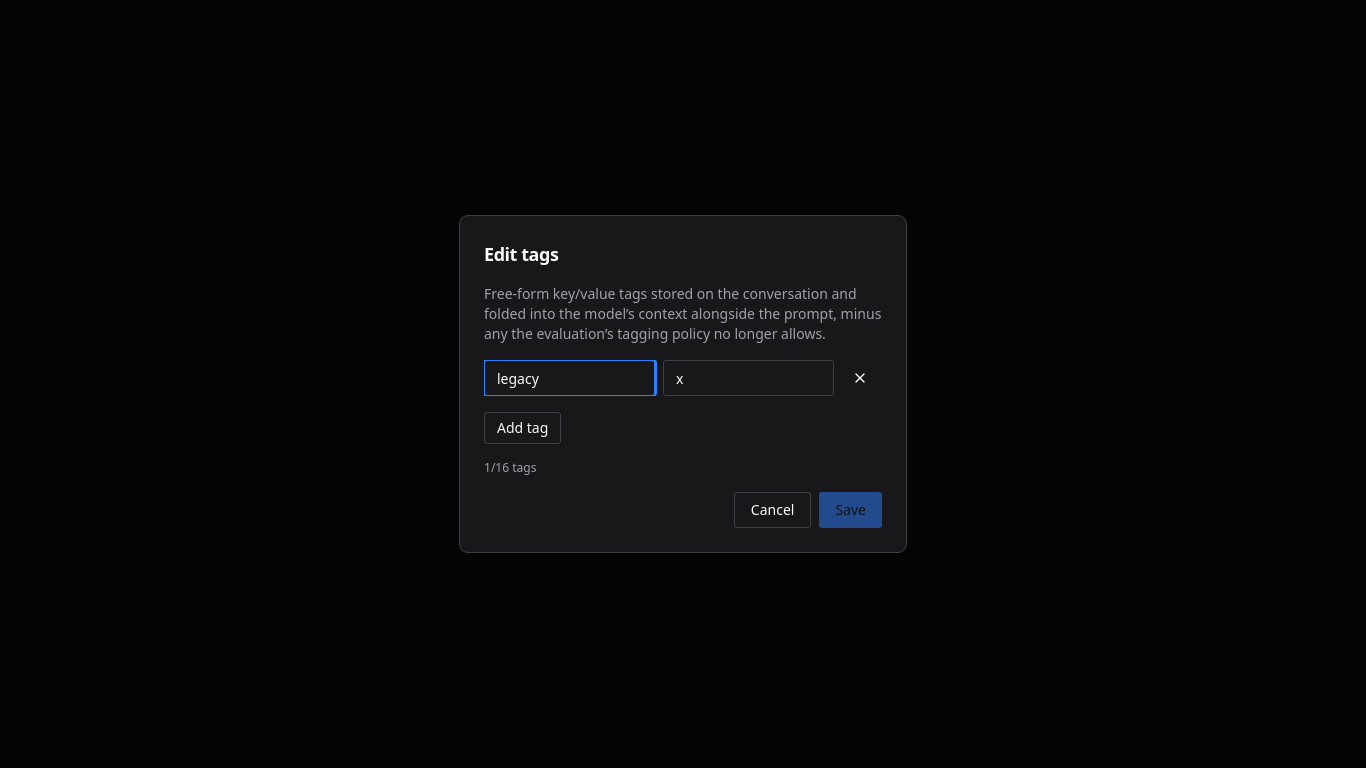
Test case: EditTagsDialog — what a failure says › clears a rejected-key message as soon as the row is edited
The width and height of the screenshot is (1366, 768).
Replace the text in the field named "Tag 1 value" with "y": (748, 378) 663,360 -> 834,396
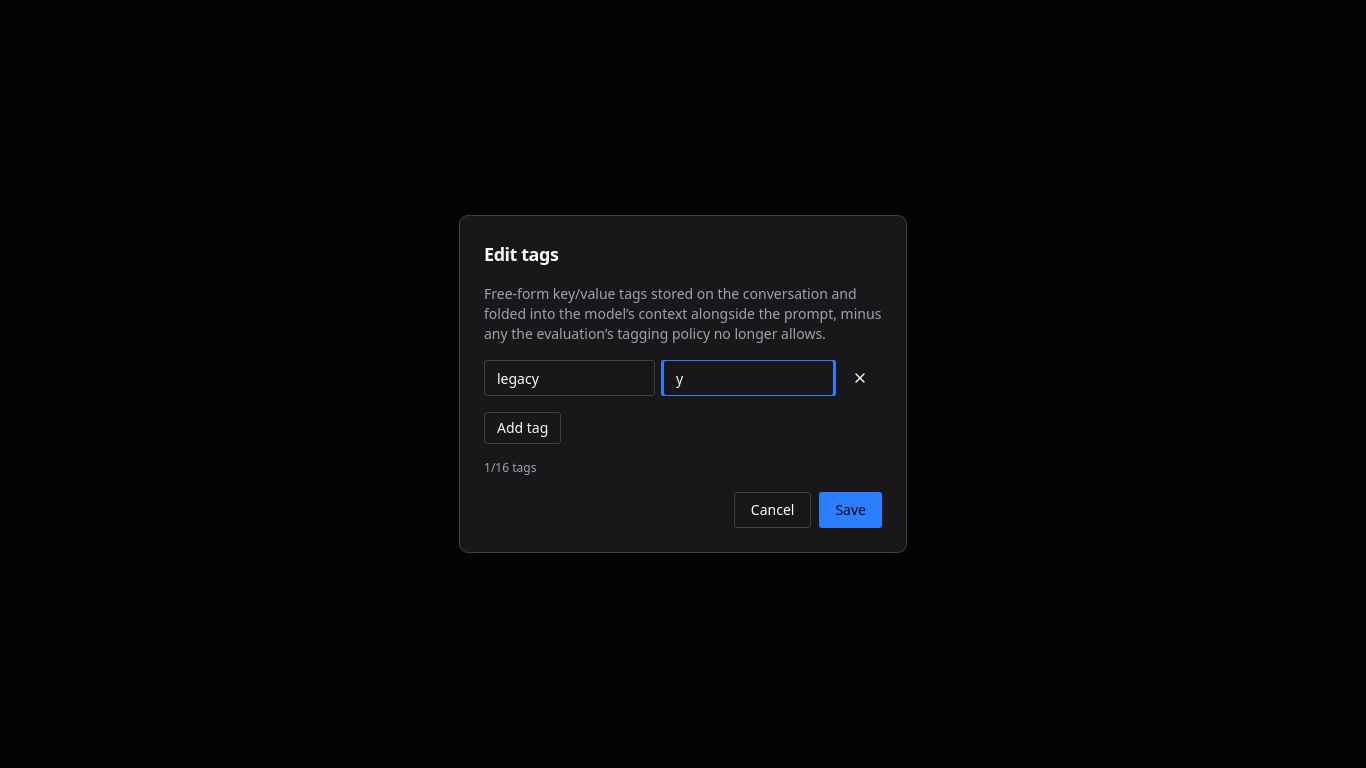
Click the button "Save": (851, 510) 819,492 -> 882,528
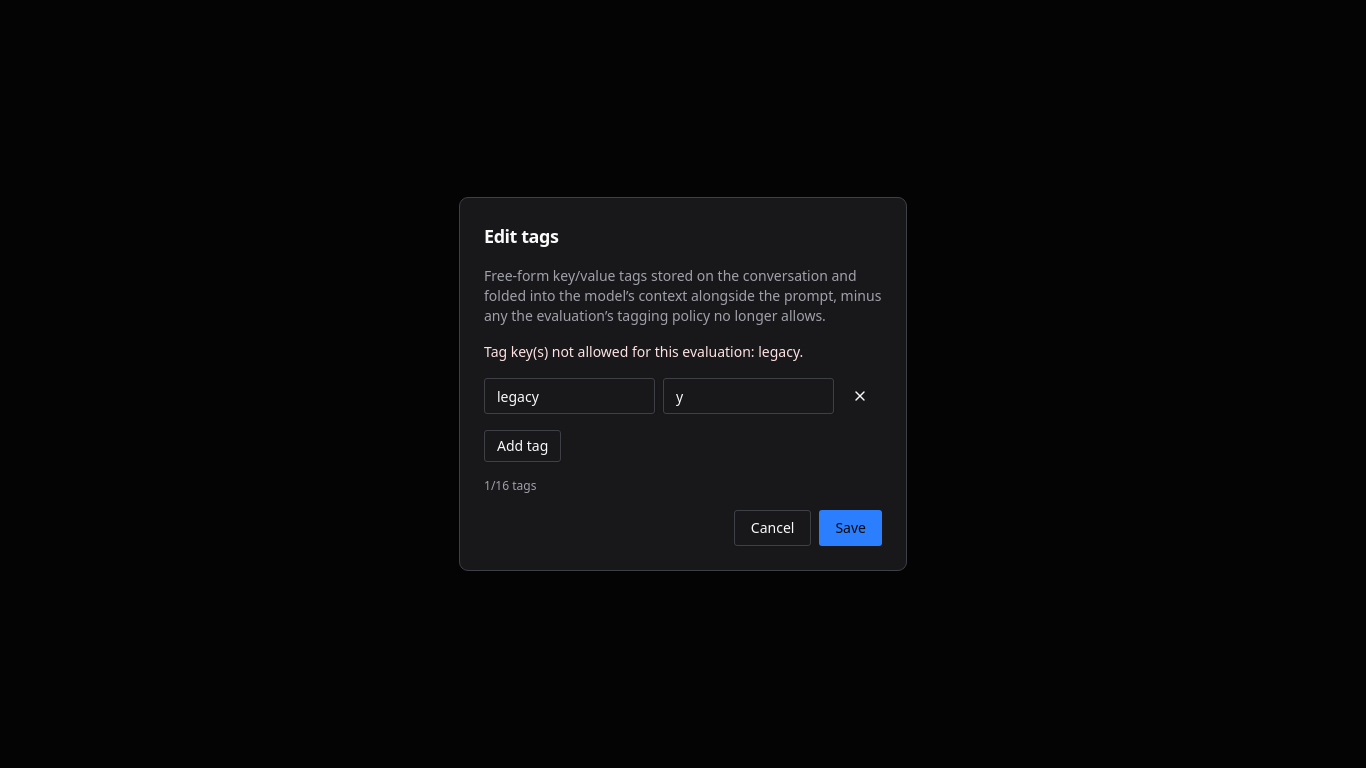
Check: the text "Tag key(s) not allowed for this evaluation: legacy." is shown, box 484,342 -> 803,361
In the field named "Tag 1 value": (748, 396) 663,378 -> 834,414, type "z"
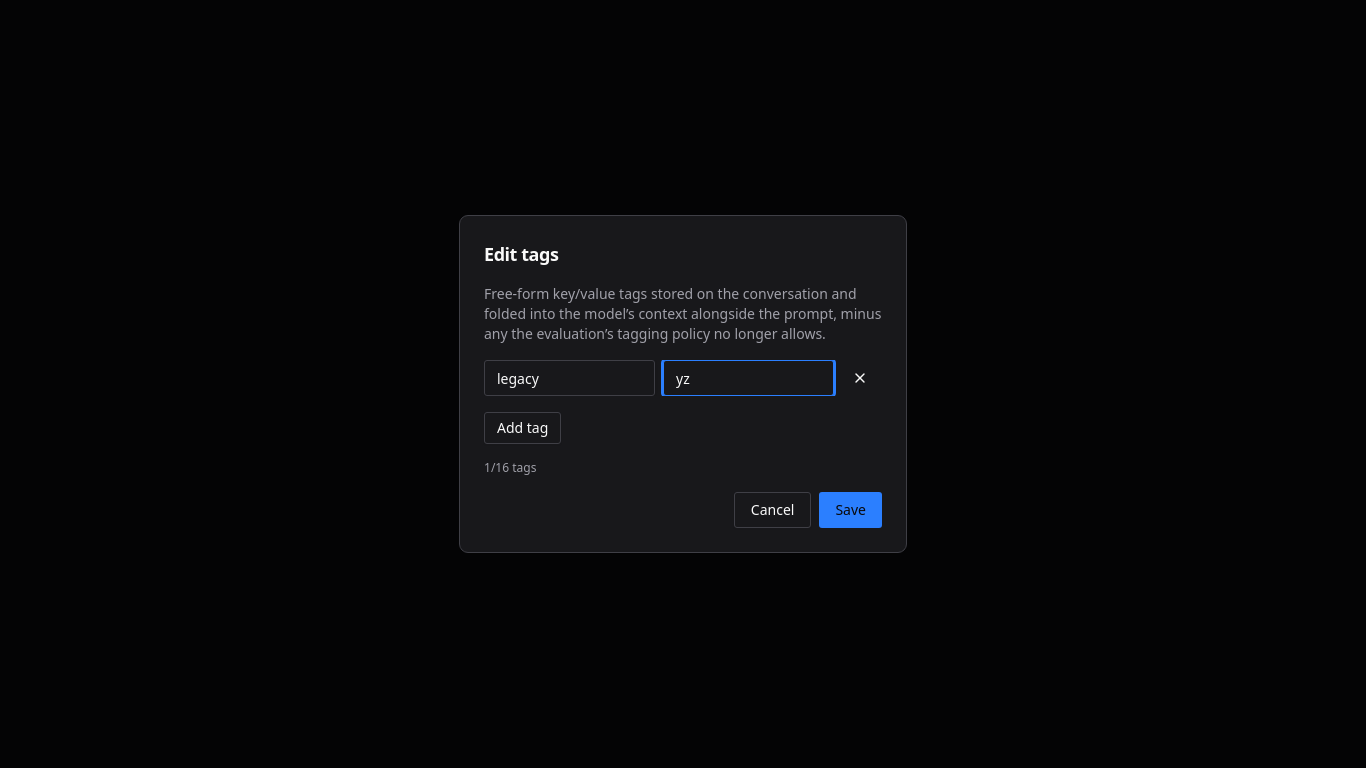
Check: the text "not allowed for this evaluation" is gone
